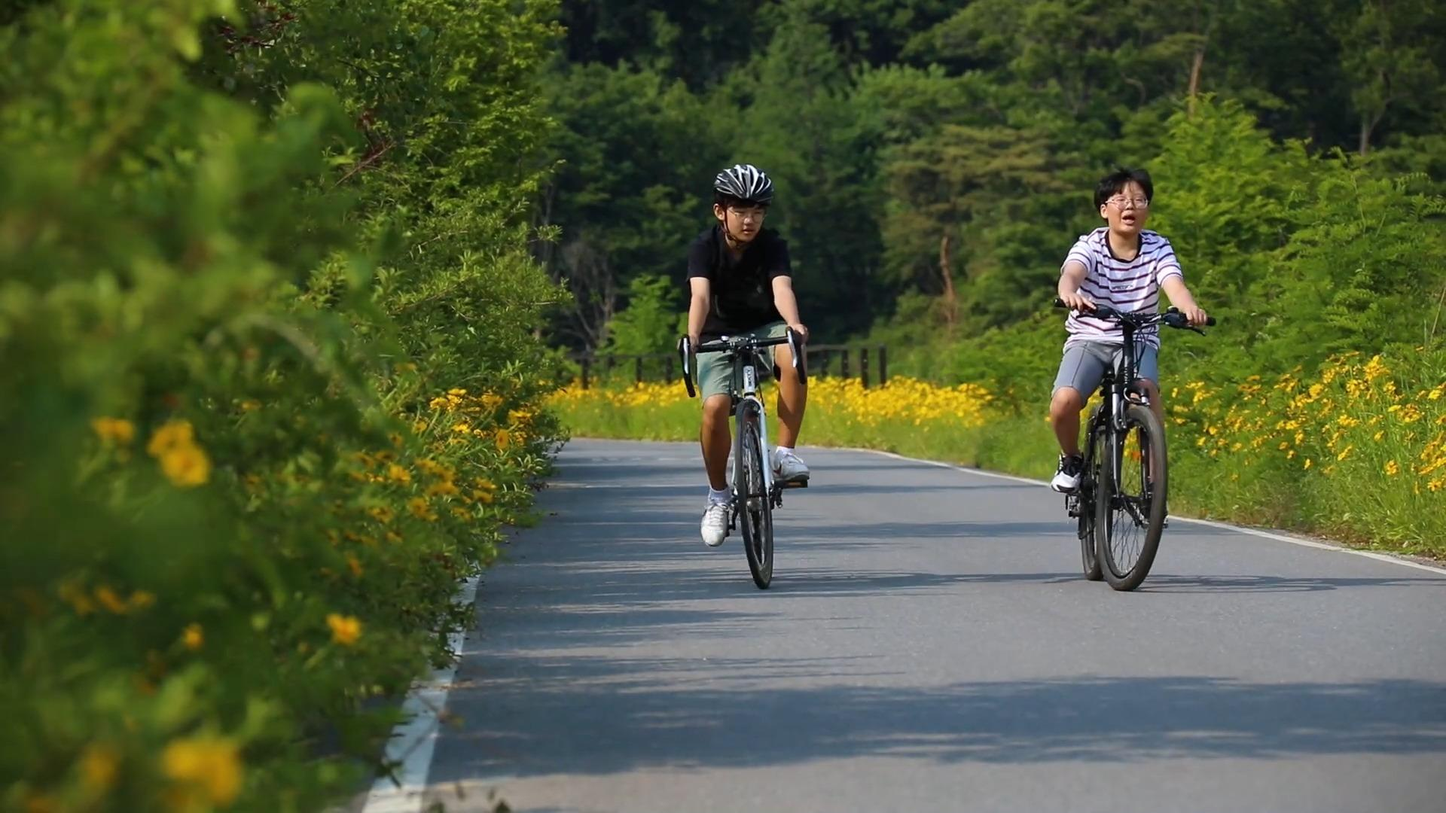bicyclist: (1051, 164, 1217, 592), (675, 160, 813, 592)
helmet: (711, 161, 775, 248)
no-helmet: (1094, 164, 1153, 235)
